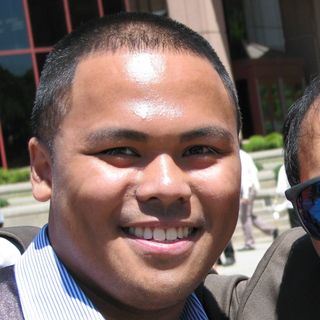eye: (90, 140, 145, 166), (173, 141, 223, 162)
